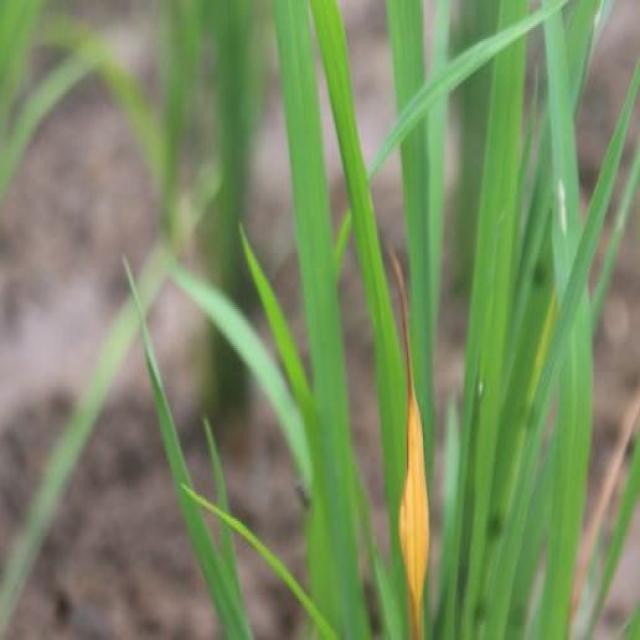Tungro: (375, 213, 448, 640)
